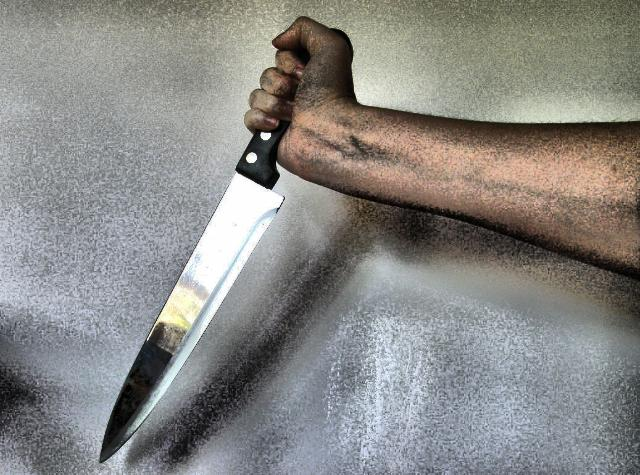knife: (94, 63, 300, 466)
